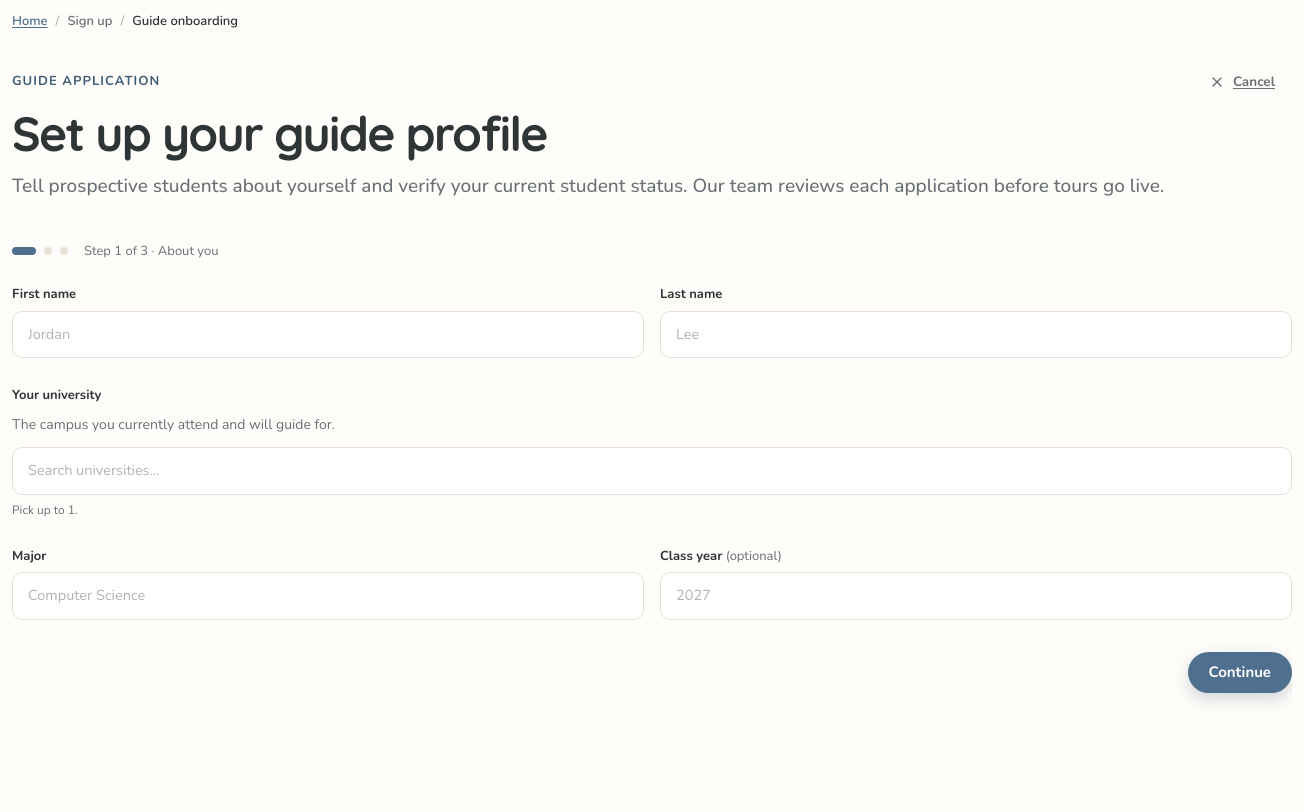
Test case: GuideOnboardingForm (multi-step wizard) › blocks Continue while step 1 required fields are empty
The image size is (1304, 812).
What coordinates should you click on to do the following:
click the button "Continue"
I would click on:
 (1240, 672)
Its box is [1188, 652, 1292, 693].
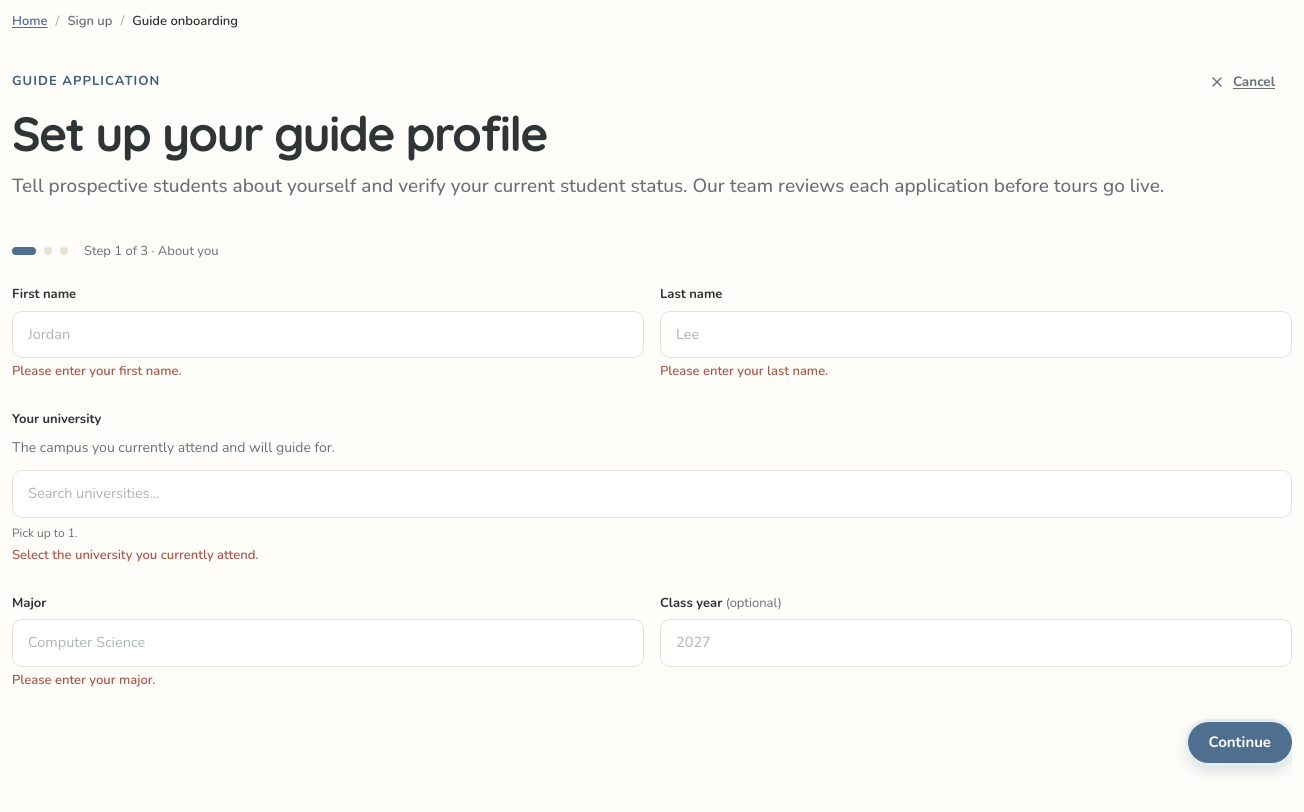
Expected: the text "Please enter your first name." is shown, [12, 362, 182, 380]
Expected: the text "Please enter your last name." is shown, [660, 362, 828, 380]
Expected: the text "Select the university you currently attend." is shown, [12, 546, 258, 564]
